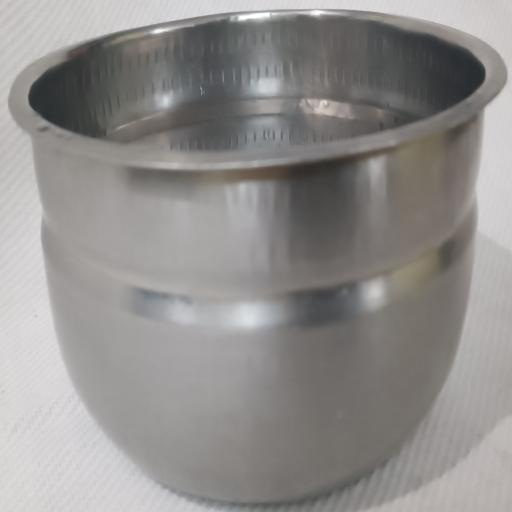vessel: (9, 11, 506, 502)
